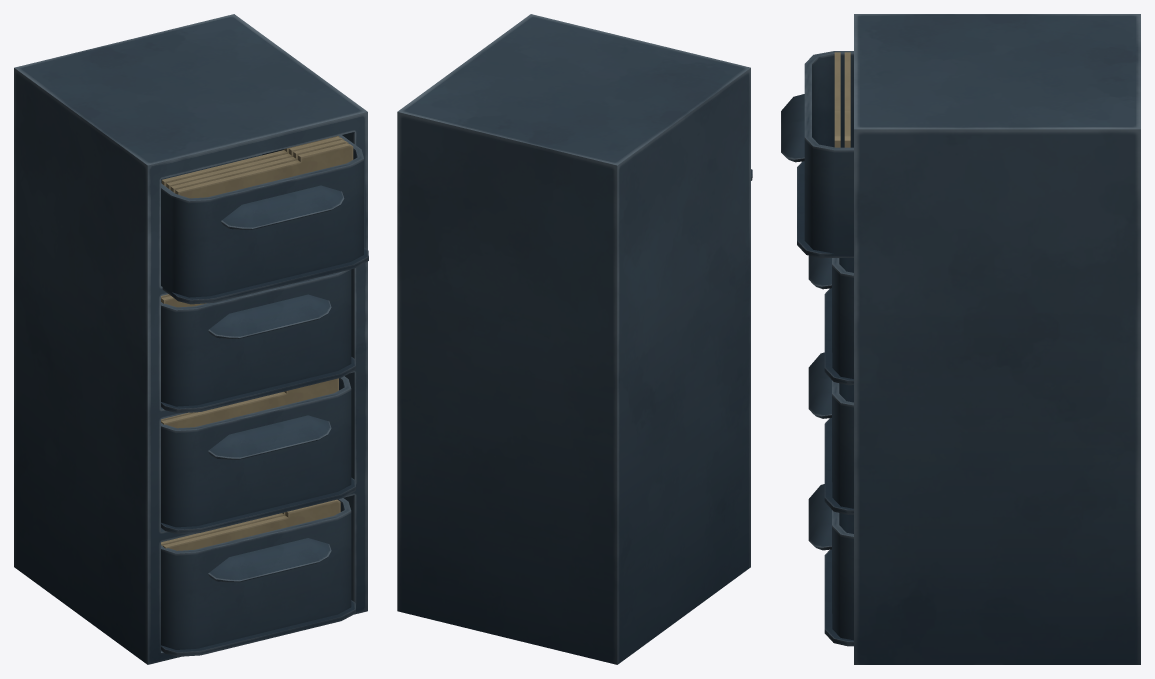
Rendered from Drawer.fbx.
3 views of the same model, side by side, from view 1: azimuth 30°, elevation 25°; view 2: azimuth 150°, elevation 25°; view 3: azimuth 270°, elevation 25° (orthographic). The views are drawn at different scales.
Parts seen in each view (by area): view 1: Estanteria_V1; view 2: Estanteria_V1; view 3: Estanteria_V1.
Part boxes in pixels (box(x1,y1,x2,y2)): Estanteria_V1: box(14, 14, 368, 664); Estanteria_V1: box(397, 14, 752, 664); Estanteria_V1: box(781, 14, 1140, 664).
Bounding box in the file's own units: 0.4561 × 0.9886 × 0.6016.
